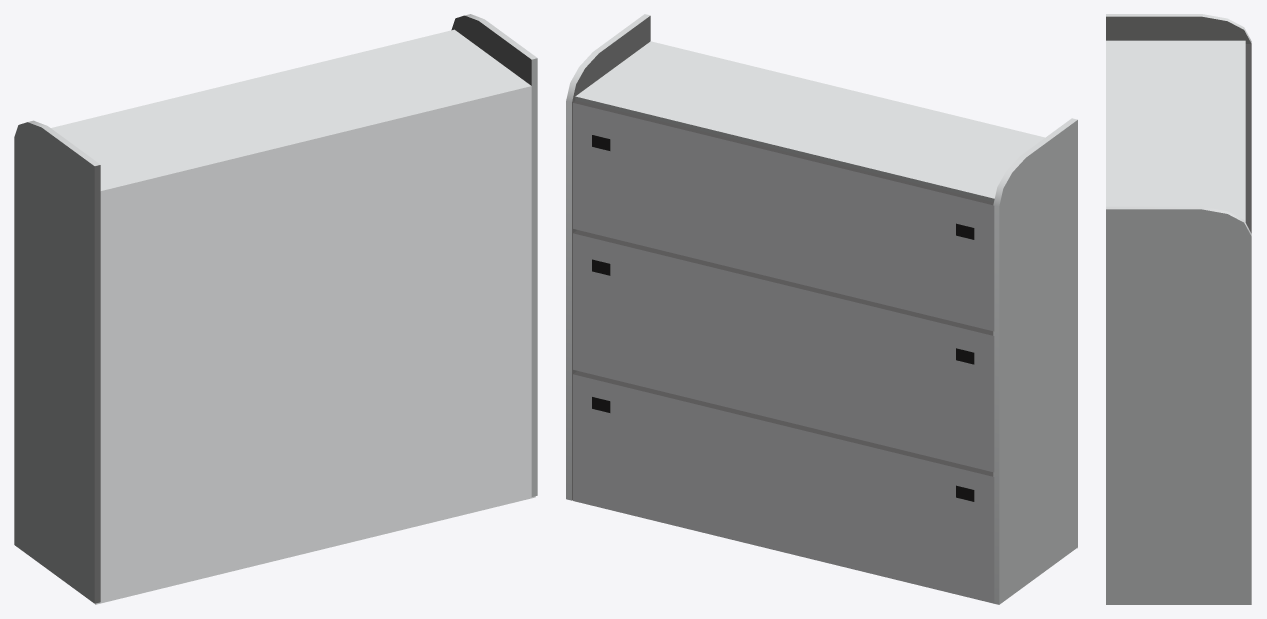
The model's file is M_ruhugui02.FBX.
The picture shows the model from 3 angles, left to right: view 1: azimuth 30°, elevation 25°; view 2: azimuth 150°, elevation 25°; view 3: azimuth 270°, elevation 25°; orthographic projection. The views are drawn at different scales.
Parts seen in each view (by area): view 1: M_ruhugui02; view 2: M_ruhugui02; view 3: M_ruhugui02.
Boxes of the visible parts, x1=… form: M_ruhugui02: x1=14, y1=14, x2=537, y2=604; M_ruhugui02: x1=566, y1=14, x2=1077, y2=604; M_ruhugui02: x1=1106, y1=14, x2=1251, y2=604.
Bounding box in the file's own units: 1.52 × 1.44 × 0.4834.
